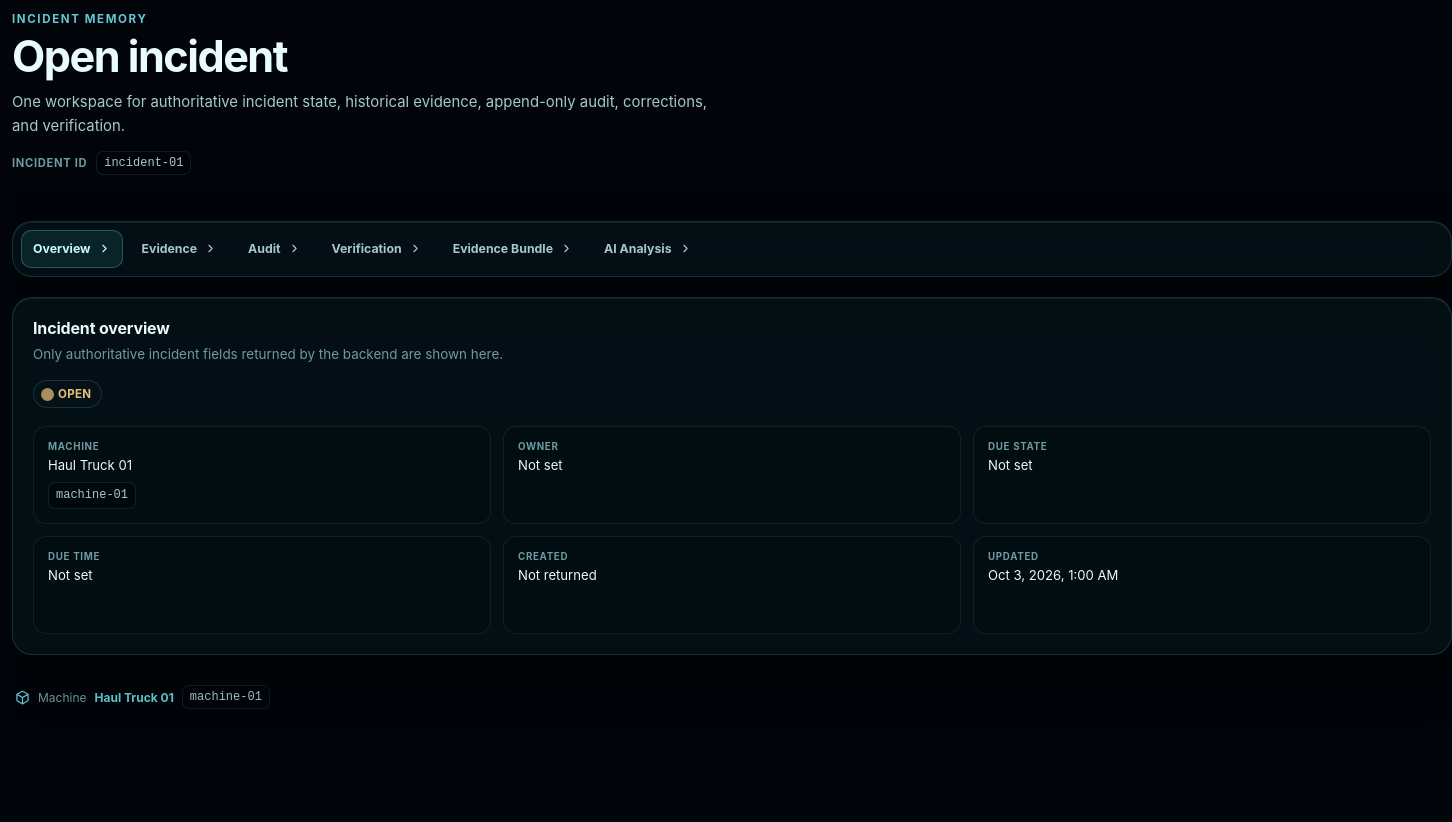
it: IncidentDetailPage › renders a section-level API error without hiding the incident workspace
The width and height of the screenshot is (1452, 822).
Expected: the text "Haul Truck 01" is shown, [48,457,132,473]
Click the button "Evidence".
click(179, 249)  # box [130,230,229,268]
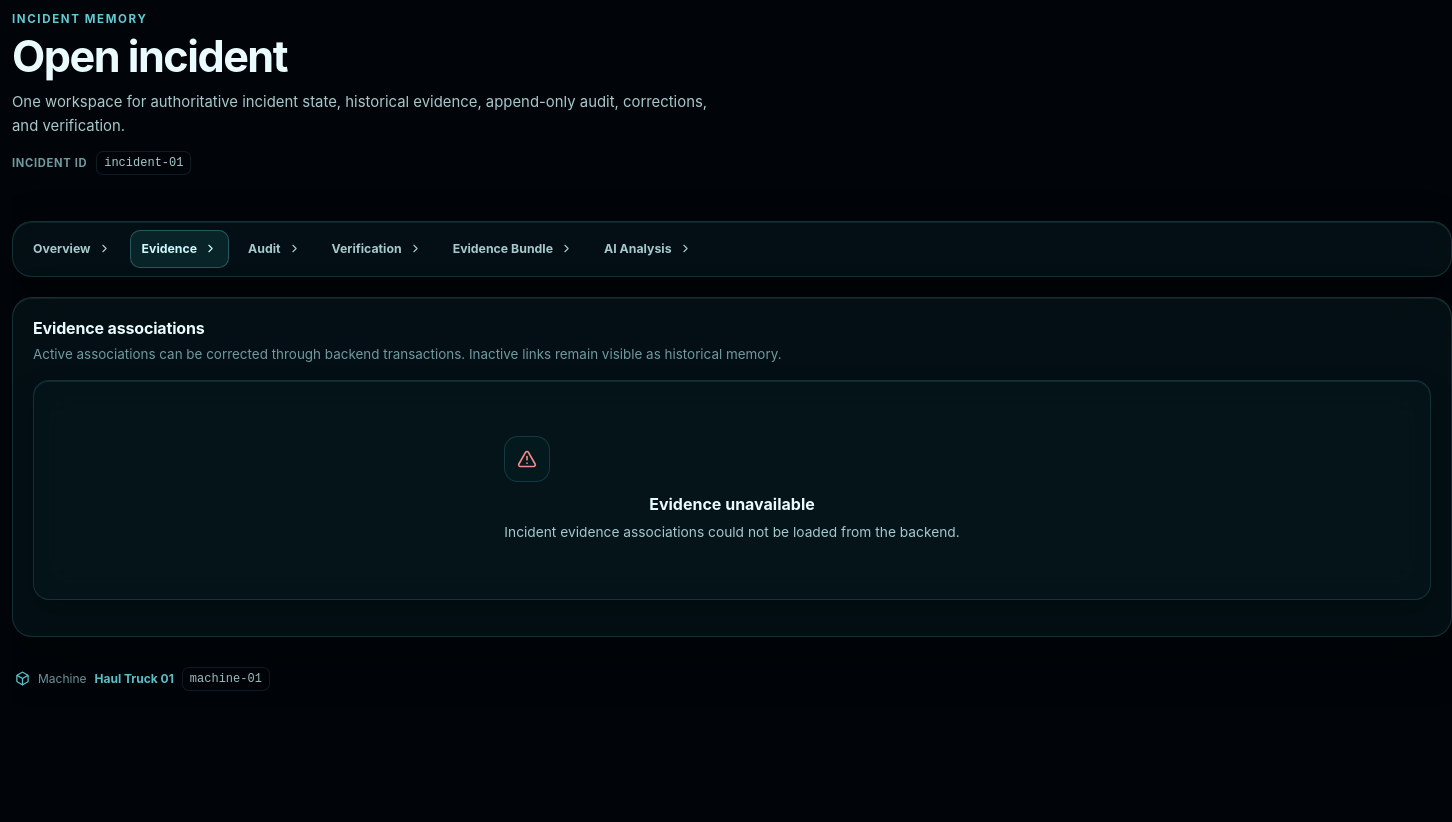
Expected: the heading "Evidence unavailable" is shown, [649,494,815,514]
